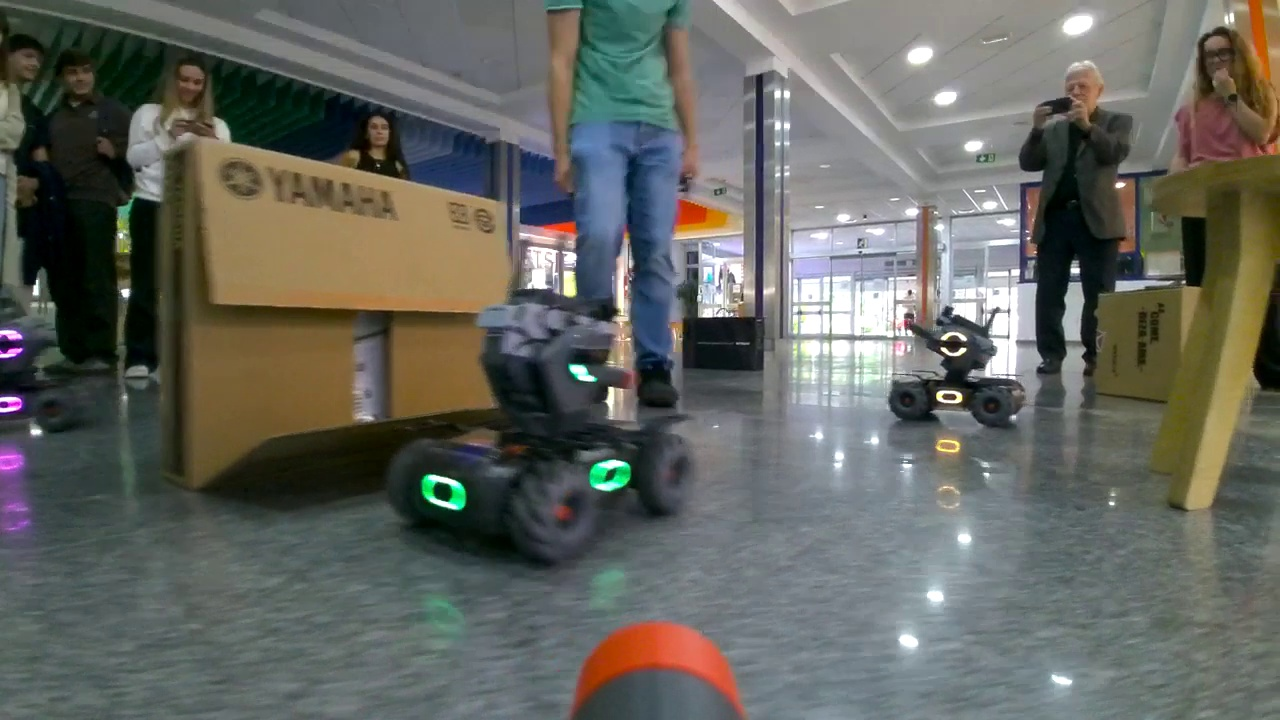robot: (385, 288, 696, 571), (884, 314, 1028, 428)
